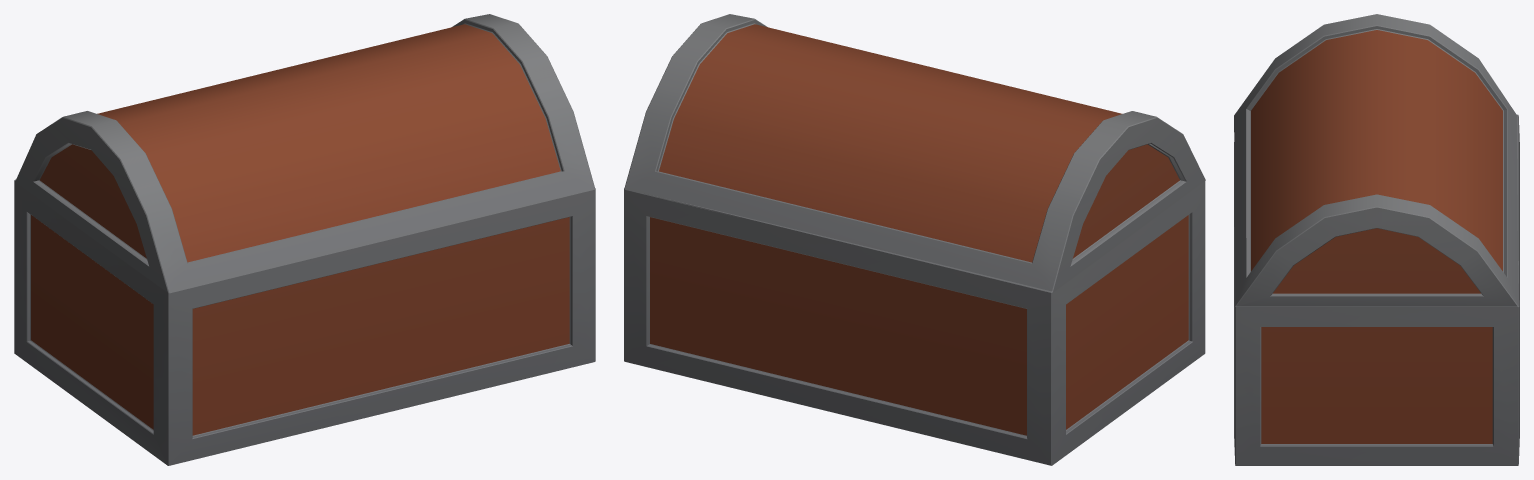
File: ChestRoundIron.glb
3 renders of one model, left to right at view 1: azimuth 30°, elevation 25°; view 2: azimuth 150°, elevation 25°; view 3: azimuth 270°, elevation 25°, orthographic. The views are drawn at different scales.
Parts seen in each view (by area): view 1: ChestRoundIron, ChestRoundTopIron; view 2: ChestRoundIron, ChestRoundTopIron; view 3: ChestRoundTopIron, ChestRoundIron.
Part boxes in pixels (x1,y1,x2,y2): ChestRoundIron: (14, 179, 595, 465); ChestRoundTopIron: (15, 14, 594, 293); ChestRoundIron: (624, 181, 1205, 465); ChestRoundTopIron: (624, 14, 1205, 292); ChestRoundTopIron: (1234, 14, 1519, 306); ChestRoundIron: (1234, 114, 1519, 465).
Size of the model in its own units: 0.6988 by 0.4395 by 0.437.
1 material, 1 textured.
